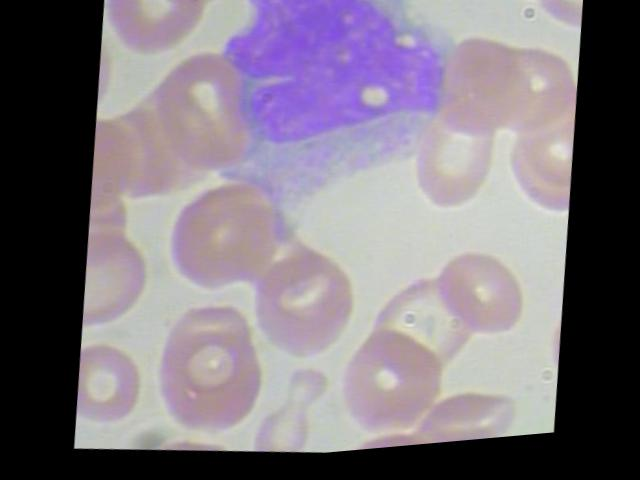Red Blood Cells: (241, 227, 368, 382), (418, 247, 531, 357), (97, 0, 220, 75), (325, 412, 454, 457), (432, 434, 530, 450)
White Blood Cells: (199, 0, 474, 250)
